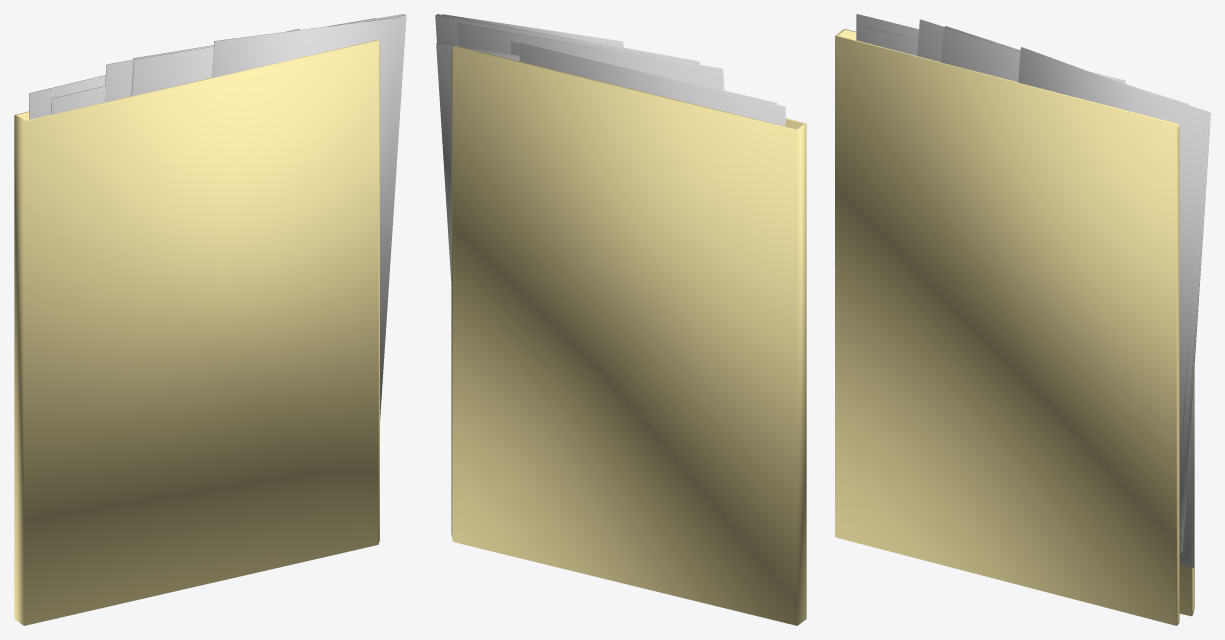
The model's file is Folder.fbx.
3 renders of one model, left to right at view 1: azimuth 30°, elevation 25°; view 2: azimuth 150°, elevation 25°; view 3: azimuth 330°, elevation 25°, orthographic.
Visible parts, largest first — view 1: Folder, Paper7, Paper8, Paper1, Paper6, Paper5; view 2: Folder, Paper1, Paper6, Paper3, Paper9, Paper7, Paper2; view 3: Folder, Paper7, Paper8, FakePapers, Paper9, Paper6, Paper1, Paper5.
Boxes of the visible parts, x1,y1,x2,y2 form: Folder: (14, 40, 379, 625); Paper7: (212, 17, 402, 367); Paper8: (131, 15, 406, 419); Paper1: (29, 28, 299, 119); Paper6: (104, 18, 375, 102); Paper5: (51, 86, 105, 114); Folder: (451, 45, 806, 625); Paper1: (519, 43, 785, 126); Paper6: (457, 23, 724, 90); Paper3: (436, 42, 519, 281); Paper9: (435, 15, 698, 64); Paper7: (442, 14, 623, 47); Paper2: (443, 52, 451, 205); Folder: (835, 29, 1194, 625); Paper7: (1018, 47, 1203, 481); Paper8: (941, 27, 1209, 535); FakePapers: (1179, 373, 1194, 567); Paper9: (945, 26, 1210, 534); Paper6: (917, 19, 1188, 104); Paper1: (856, 14, 1125, 83); Paper5: (865, 27, 918, 55).
Bounding box in the file's own units: 2.81 × 3.82 × 0.1952.
